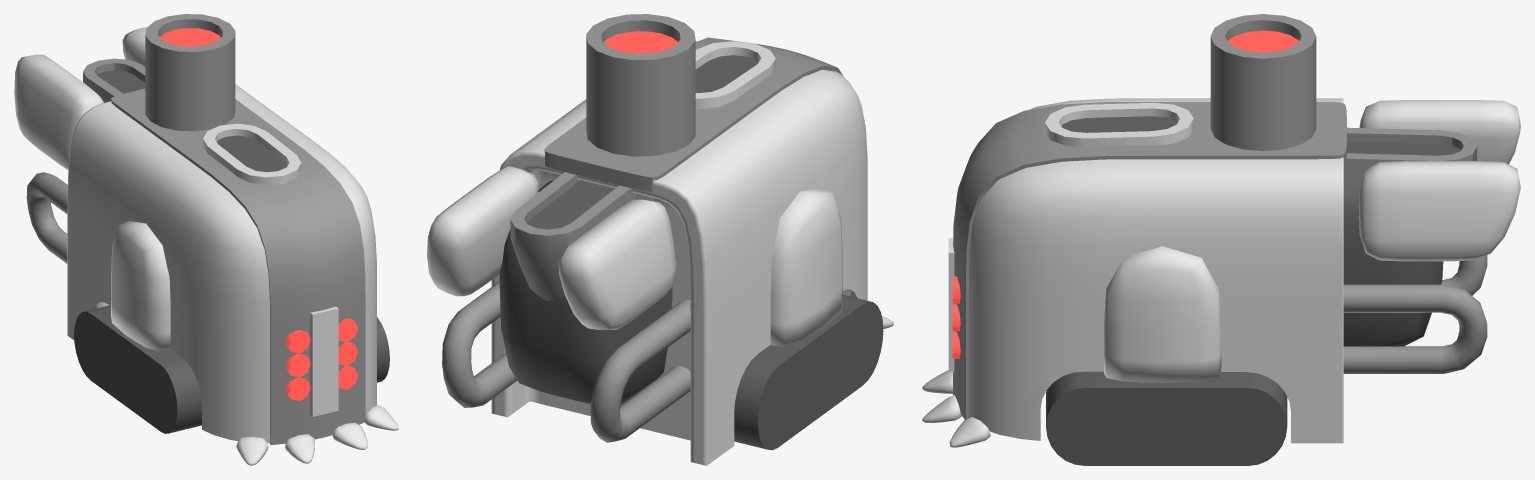
The model's file is SM_Convoy_Blockout.fbx.
3 views of the same model, side by side, from view 1: azimuth 30°, elevation 25°; view 2: azimuth 150°, elevation 25°; view 3: azimuth 270°, elevation 25° (orthographic). The views are drawn at different scales.
Parts seen in each view (by area): view 1: Convoy_Joined; view 2: Convoy_Joined; view 3: Convoy_Joined.
Part boxes in pixels (left/top/right/bottom): Convoy_Joined: left=14, top=14, right=398, bottom=465; Convoy_Joined: left=427, top=14, right=893, bottom=465; Convoy_Joined: left=922, top=14, right=1520, bottom=465.
Bounding box in the file's own units: 2.42 × 3.42 × 5.02.
